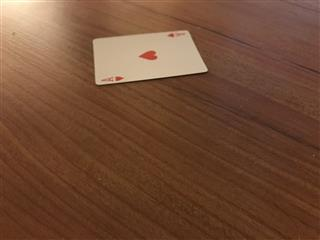AceOfHearts: (91, 29, 208, 85)
